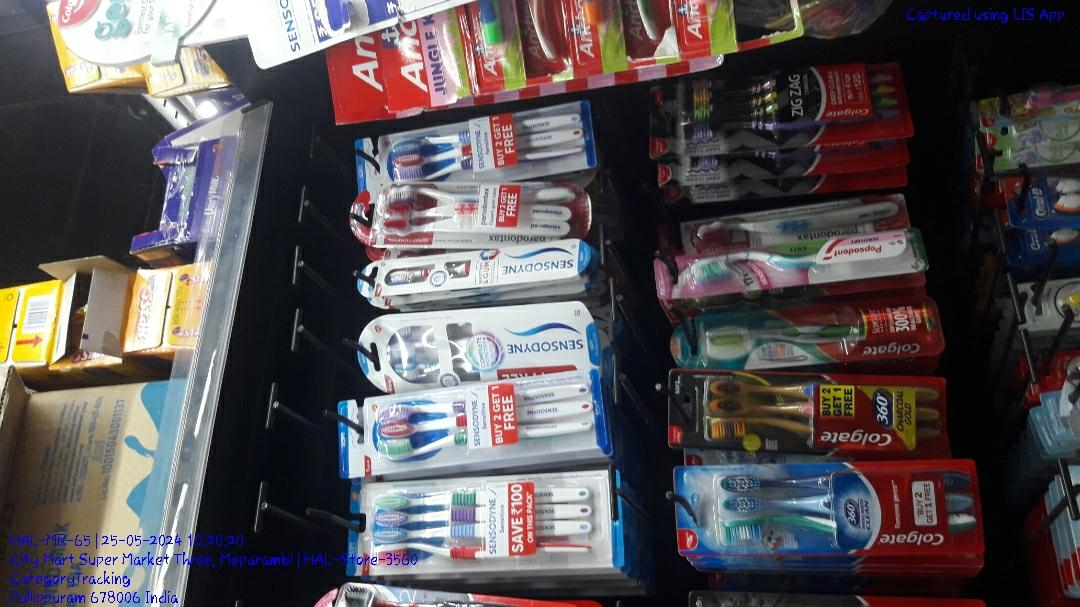13: (558, 366, 673, 523)
14: (56, 195, 231, 344)
15: (257, 190, 391, 340), (762, 201, 886, 336)
4: (406, 204, 529, 336)
liquid soap: (800, 368, 960, 510)
